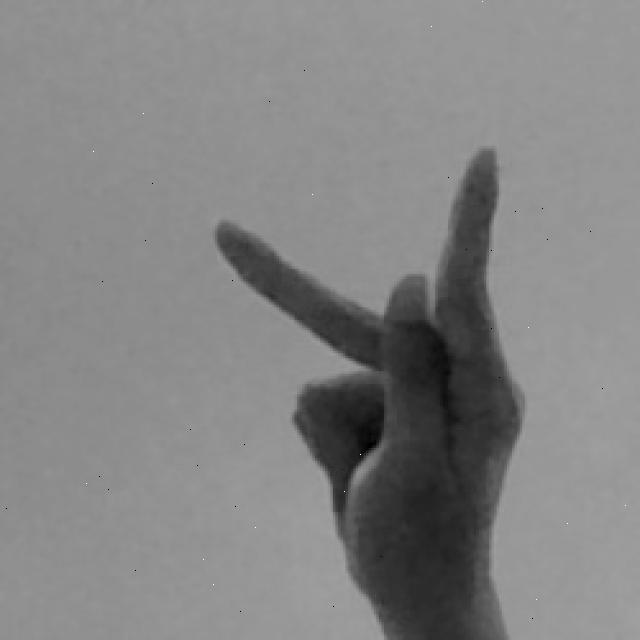K: (213, 143, 532, 640)
